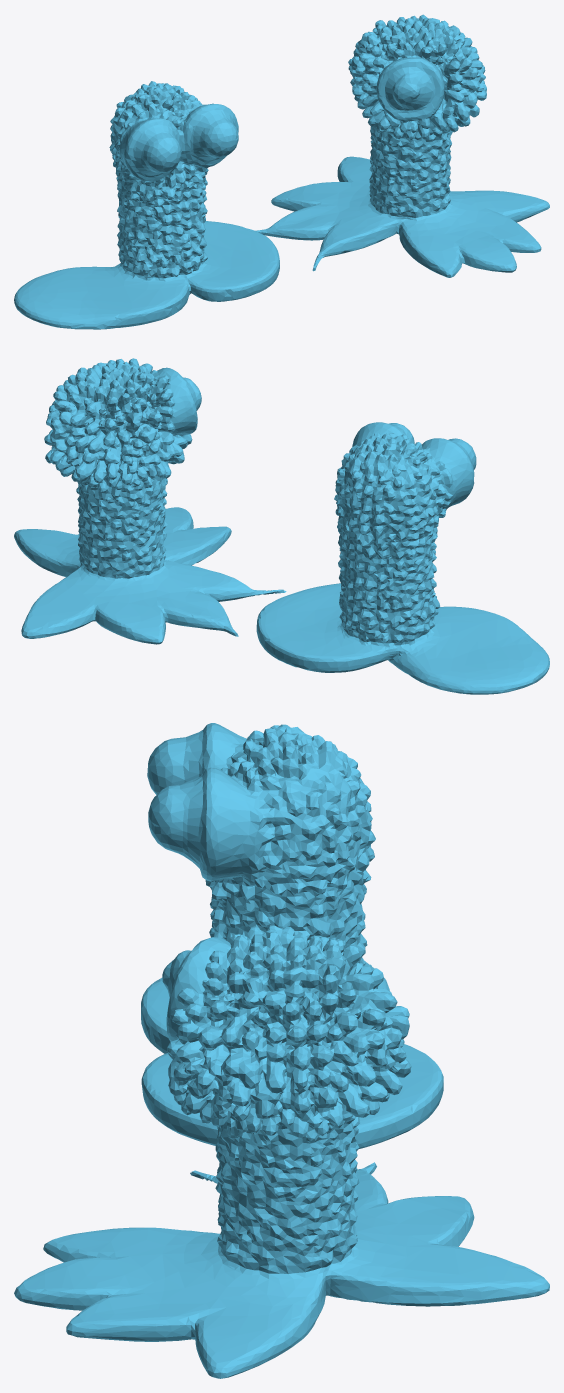
Rendered from zubi_v6.glb.
3 renders of one model, top to bottom at view 1: azimuth 30°, elevation 25°; view 2: azimuth 150°, elevation 25°; view 3: azimuth 270°, elevation 25°, orthographic. The views are drawn at different scales.
Visible parts, largest first — view 1: tmps53oevfx.ply; view 2: tmps53oevfx.ply; view 3: tmps53oevfx.ply.
Part boxes in pixels (<box>): tmps53oevfx.ply: <box>14,14,549,329</box>; tmps53oevfx.ply: <box>14,358,549,694</box>; tmps53oevfx.ply: <box>14,723,549,1378</box>.
Bounding box in the file's own units: 1.99 × 0.745 × 1.06.
